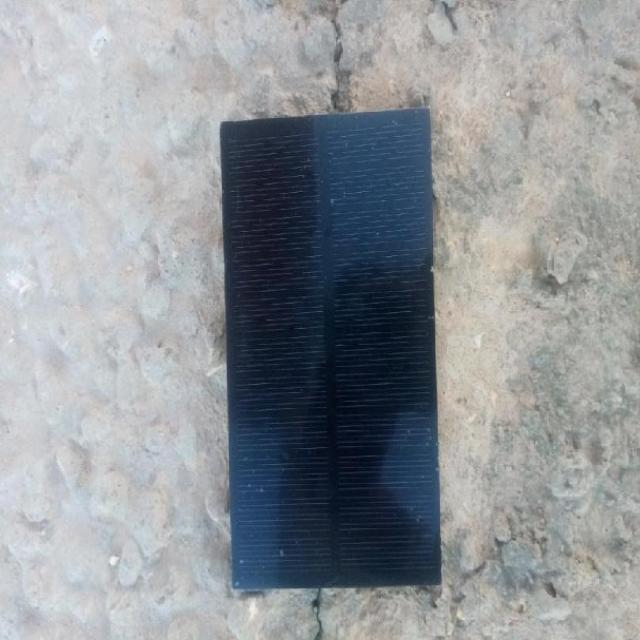no faulty: (227, 108, 439, 592)
